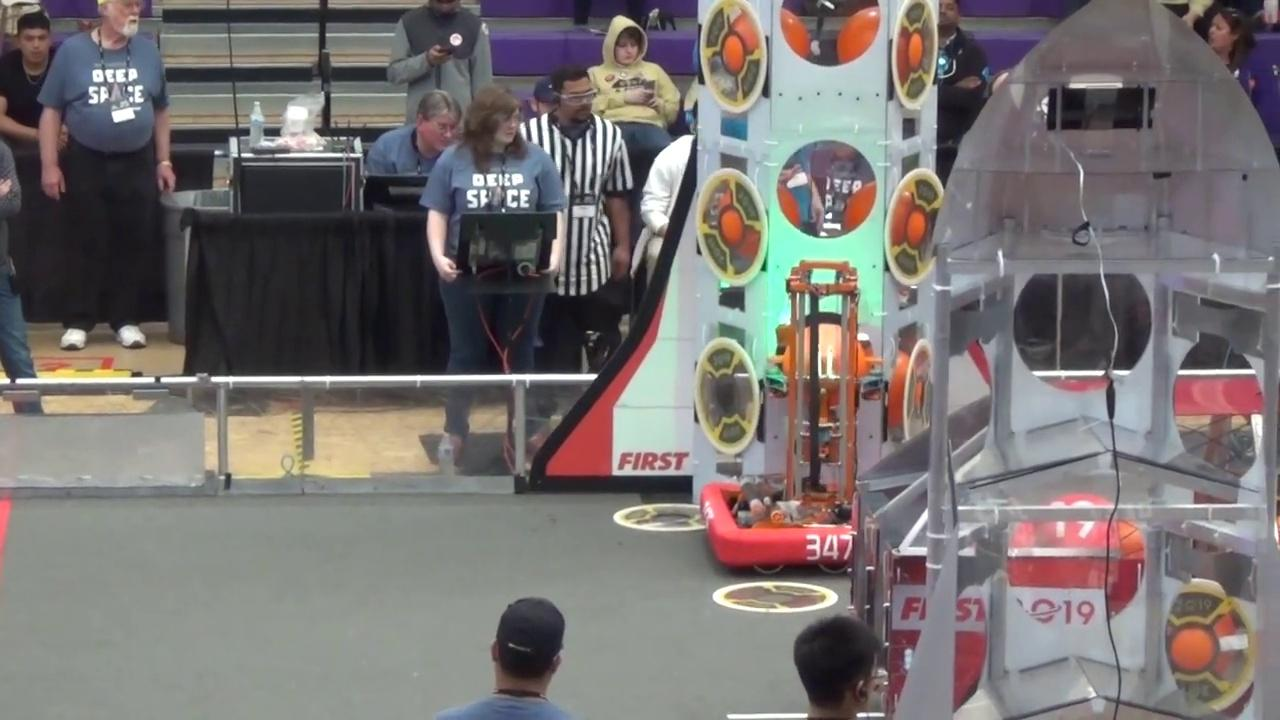robot: (693, 248, 868, 579)
